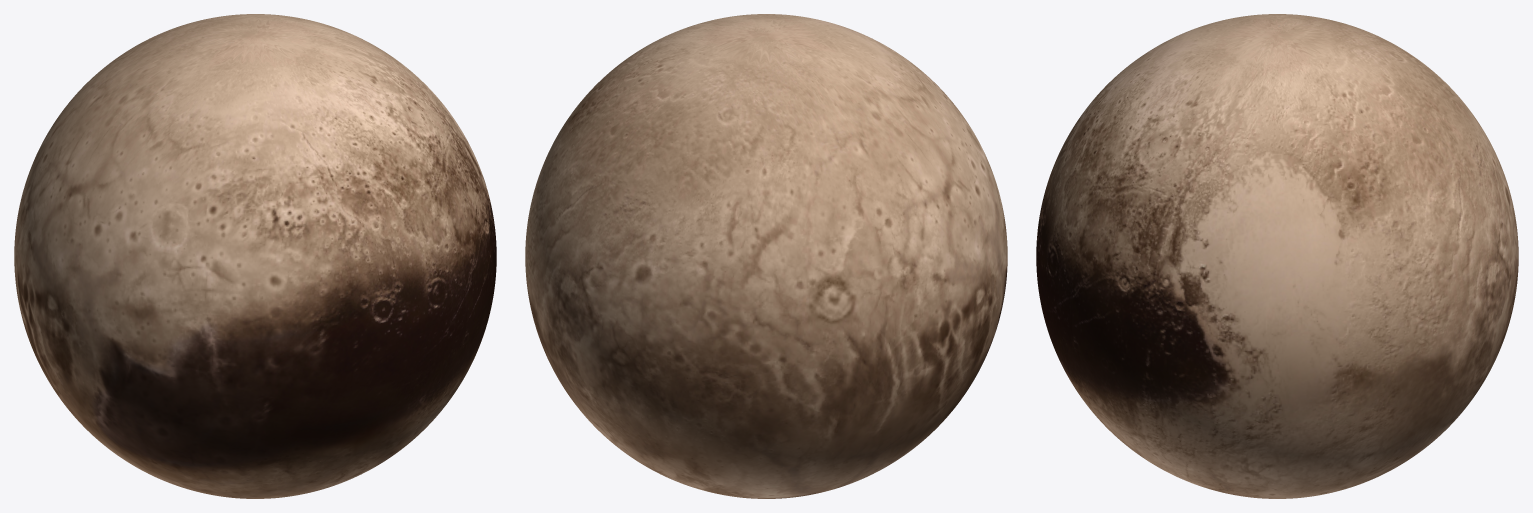
The model's file is pluto.gltf.
3 renders of one model, left to right at view 1: azimuth 30°, elevation 25°; view 2: azimuth 150°, elevation 25°; view 3: azimuth 270°, elevation 25°, orthographic.
Parts seen in each view (by area): view 1: Sphere_2; view 2: Sphere_2; view 3: Sphere_2.
Part boxes in pixels (x1,y1,x2,y2): Sphere_2: [14, 14, 496, 498]; Sphere_2: [525, 14, 1007, 498]; Sphere_2: [1036, 14, 1518, 498].
Size of the model in its own units: 2.23 by 2.25 by 2.23.
Materials: 1 (1 with a texture image).
